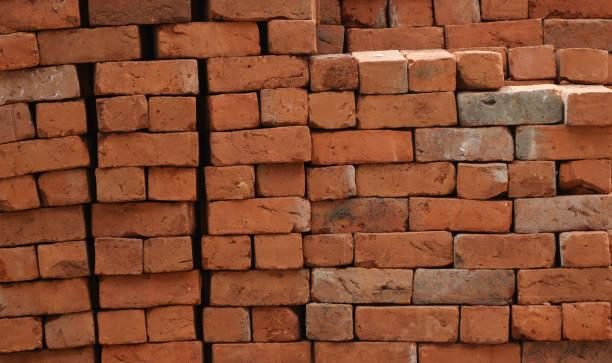brick: (38, 26, 139, 65), (211, 126, 311, 165), (209, 197, 311, 235), (100, 270, 200, 308), (355, 306, 460, 342), (454, 232, 555, 269), (458, 88, 561, 124), (209, 269, 309, 306), (158, 22, 260, 58), (0, 137, 89, 178), (207, 55, 308, 91), (514, 195, 612, 232), (355, 231, 453, 268), (409, 197, 512, 232), (357, 92, 457, 128), (98, 132, 198, 168), (311, 268, 413, 303), (413, 269, 515, 304), (94, 60, 199, 94), (93, 202, 193, 237), (0, 205, 85, 246), (311, 130, 413, 164), (416, 127, 514, 162), (517, 268, 612, 304), (311, 198, 408, 233), (0, 279, 89, 317), (357, 162, 455, 196), (516, 125, 612, 159), (0, 65, 80, 104), (446, 19, 543, 49), (0, 0, 80, 33), (349, 26, 444, 53), (89, 0, 191, 25), (208, 0, 313, 21), (102, 341, 202, 363), (544, 19, 612, 51), (314, 342, 416, 363), (521, 340, 612, 363), (212, 342, 310, 363), (419, 343, 520, 363), (96, 95, 148, 132), (209, 93, 260, 130), (38, 241, 89, 278), (563, 302, 612, 340), (460, 306, 510, 343), (36, 101, 87, 137), (307, 165, 356, 202), (143, 237, 193, 273), (39, 170, 90, 205), (45, 312, 94, 348), (205, 166, 255, 201), (560, 231, 610, 266), (511, 305, 561, 340), (559, 160, 612, 193), (309, 92, 356, 129), (306, 304, 353, 341), (95, 238, 143, 274), (310, 55, 358, 91), (408, 56, 456, 92), (508, 45, 557, 80), (457, 164, 507, 198), (261, 87, 308, 123), (508, 161, 555, 197), (147, 306, 195, 341), (560, 48, 608, 83), (359, 59, 407, 94), (254, 234, 303, 268), (457, 52, 504, 87), (303, 234, 354, 266), (98, 310, 146, 344), (96, 168, 145, 201), (202, 236, 251, 269), (268, 20, 317, 53), (252, 307, 298, 342), (149, 97, 196, 131), (204, 308, 251, 342), (528, 0, 612, 19), (566, 92, 612, 125), (148, 169, 196, 200), (258, 165, 305, 196), (0, 33, 39, 70), (0, 317, 42, 351), (0, 103, 35, 143), (0, 175, 40, 210), (0, 247, 38, 282), (342, 0, 386, 27), (434, 0, 480, 25), (390, 0, 432, 27), (481, 0, 528, 19), (316, 25, 344, 54), (320, 0, 341, 24)
